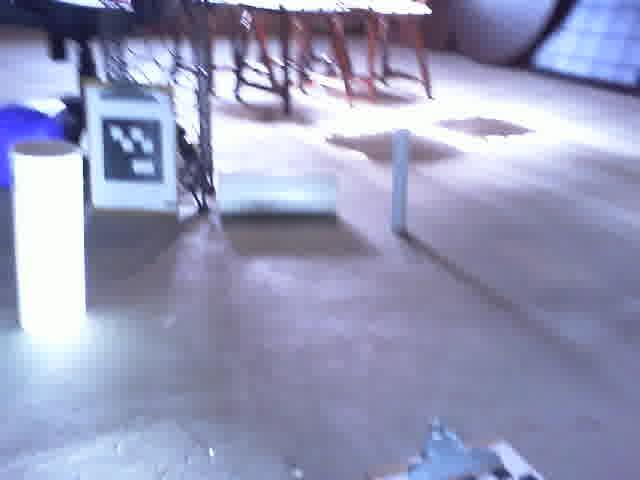coral: (10, 140, 88, 342), (219, 169, 337, 221)
